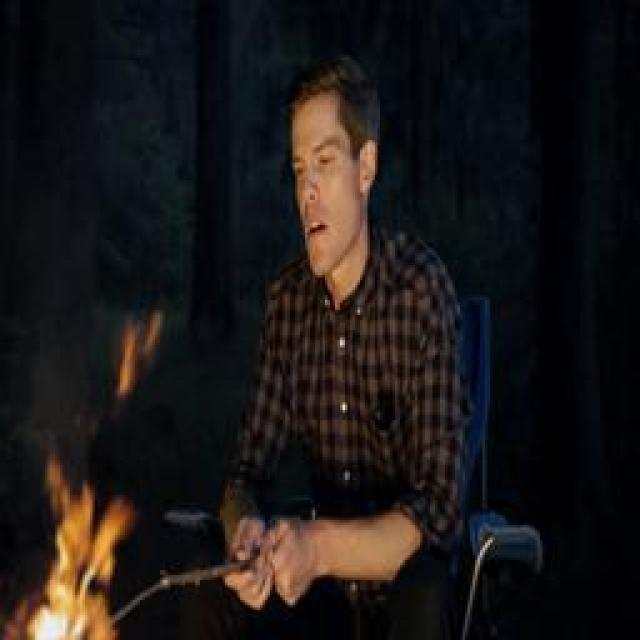Fire: (8, 450, 132, 640)
